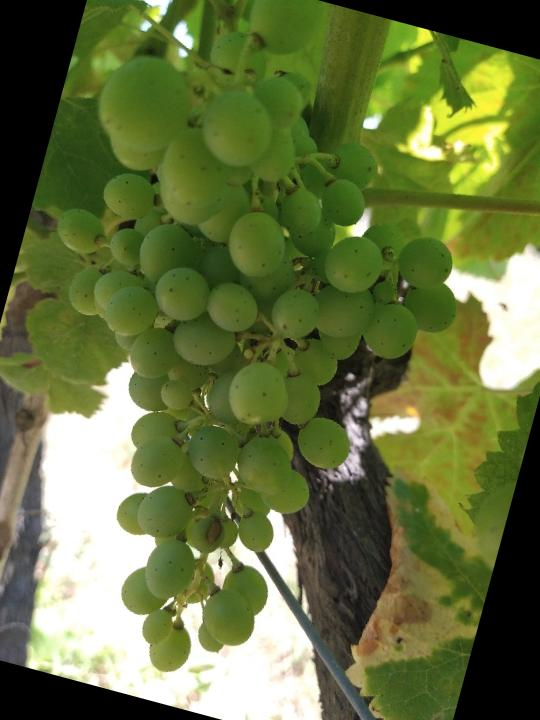grape: (0, 0, 528, 720)
